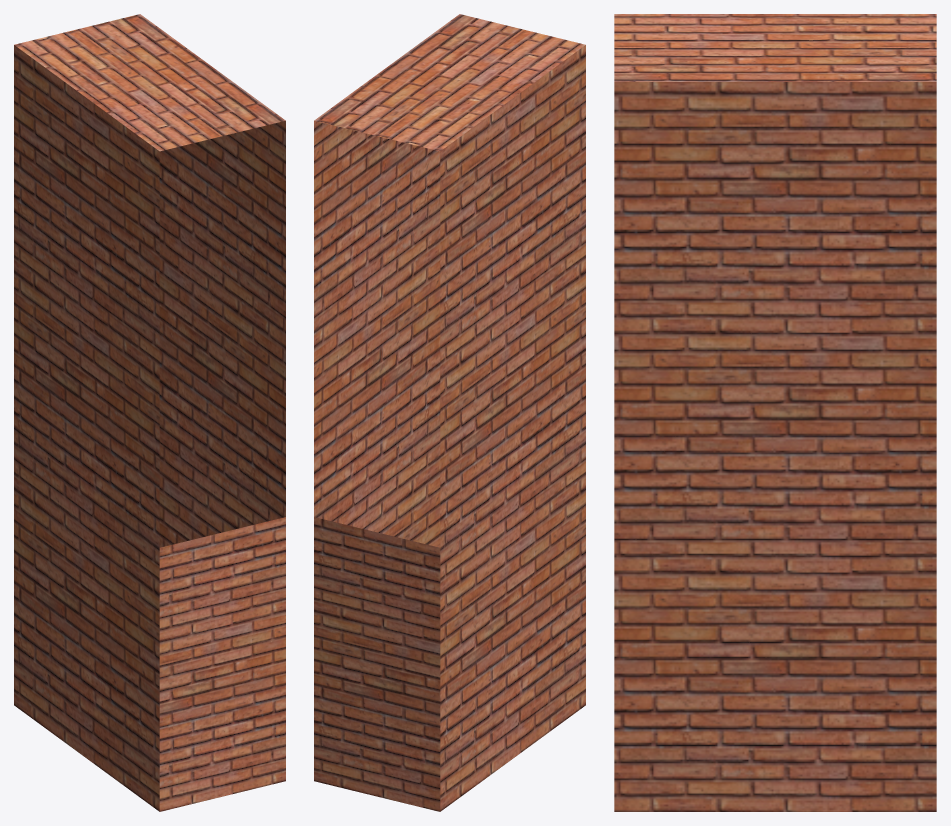
File: WDNorthDoor3.fbx
The picture shows the model from 3 angles, left to right: view 1: azimuth 30°, elevation 25°; view 2: azimuth 150°, elevation 25°; view 3: azimuth 270°, elevation 25°; orthographic projection. The views are drawn at different scales.
Parts seen in each view (by area): view 1: Wall_Int_2_Door_North__3_; view 2: Wall_Int_2_Door_North__3_; view 3: Wall_Int_2_Door_North__3_.
Part boxes in pixels (<box>): Wall_Int_2_Door_North__3_: <box>14,14,285,811</box>; Wall_Int_2_Door_North__3_: <box>314,14,585,811</box>; Wall_Int_2_Door_North__3_: <box>614,14,936,811</box>.
Bounding box in the file's own units: 1 × 5 × 2.
